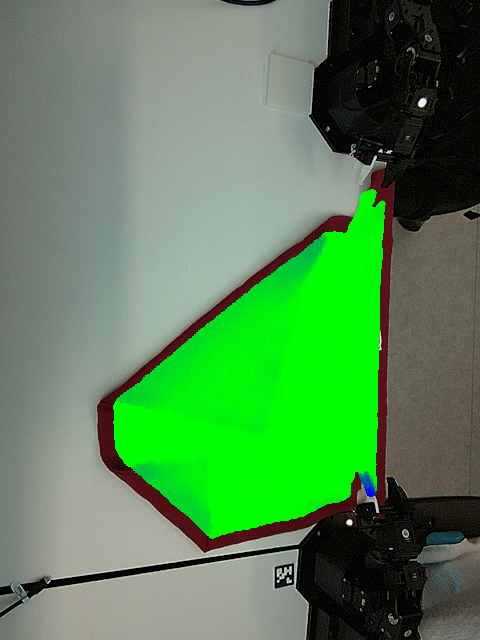V: (226, 396, 281, 440), (172, 443, 220, 484)
